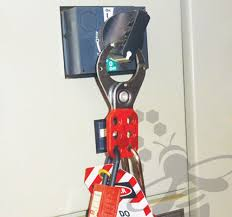hasp: (94, 44, 147, 160)
lock: (88, 151, 121, 217)
